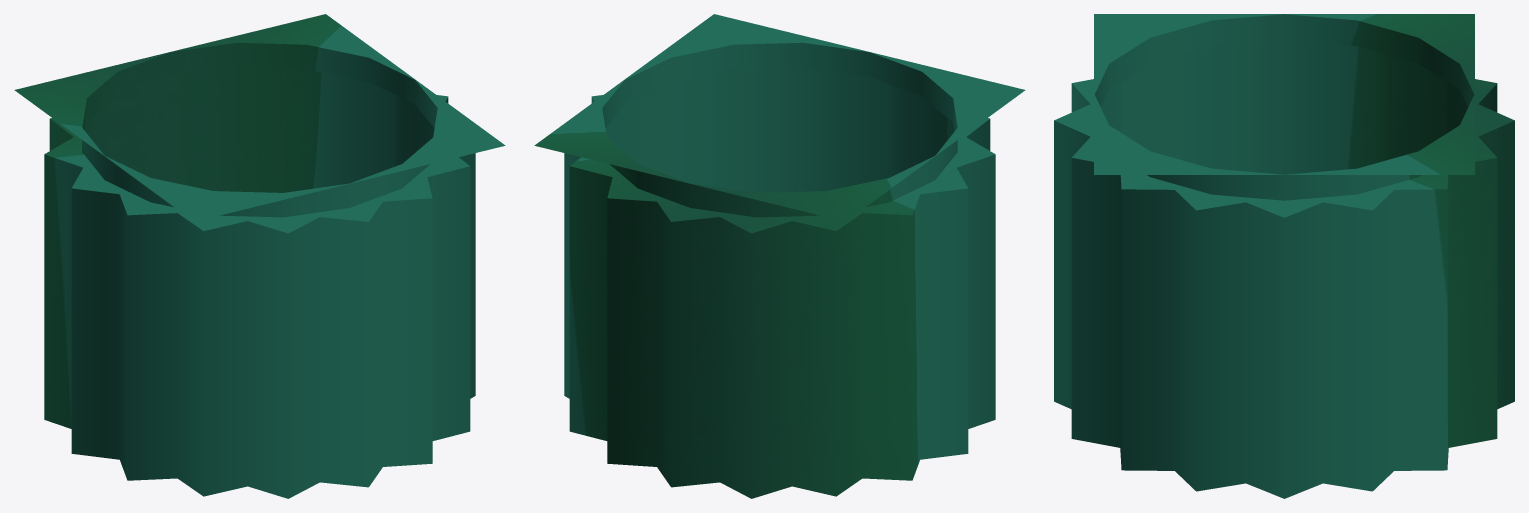
The model's file is hole_geo.fbx.
The picture shows the model from 3 angles, left to right: view 1: azimuth 30°, elevation 25°; view 2: azimuth 150°, elevation 25°; view 3: azimuth 270°, elevation 25°; orthographic projection. The views are drawn at different scales.
Parts seen in each view (by area): view 1: hole_geo; view 2: hole_geo; view 3: hole_geo.
Part boxes in pixels (x1=…): hole_geo: x1=14, y1=14, x2=505, y2=498; hole_geo: x1=534, y1=14, x2=1025, y2=498; hole_geo: x1=1054, y1=14, x2=1514, y2=498.
Bounding box in the file's own units: 1089 × 800 × 1089.
